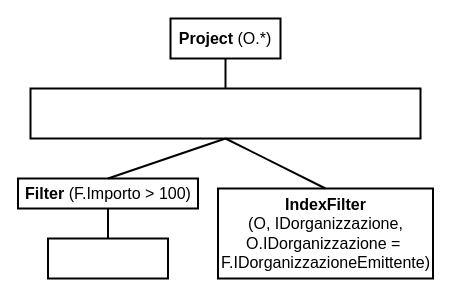
Image size: 451x296. Some labels were removed from this diagram. The centre of each missing label's shape, as x and y in pixels:
IndexNestedLoop ( O.IDorganizzazione = F.IDorganizzazioneEmittente): the point at 225,113
TableScan (F): the point at 107,258
